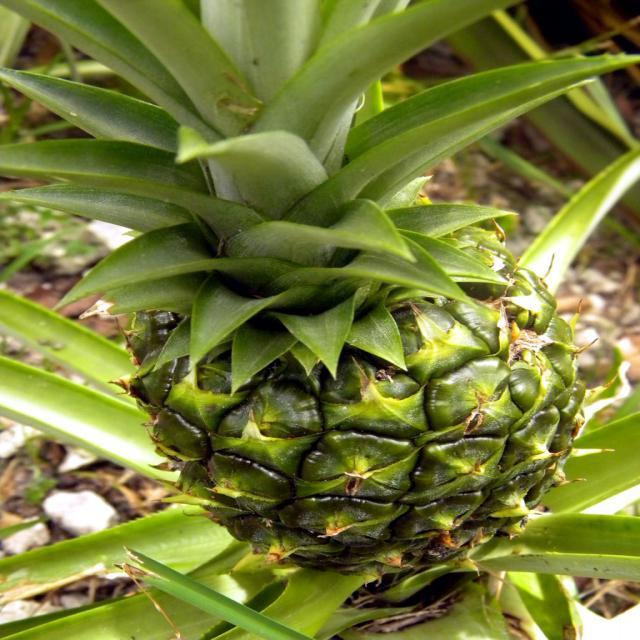Pineapple: (0, 0, 639, 590)
